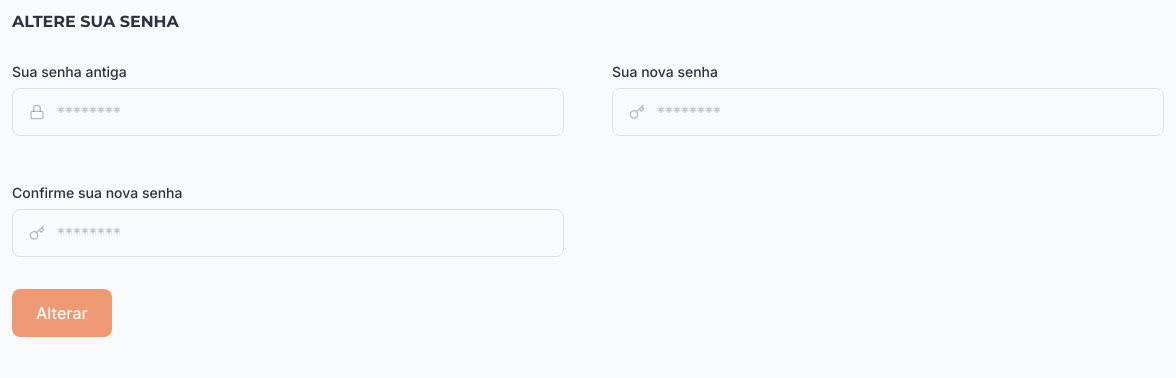
Test: shows validation error when submit is clicked and password confirmation is not provided
Type "old-password" into the password field labelled "Sua senha antiga" at coordinates (310, 112), box [57,89,563,135]
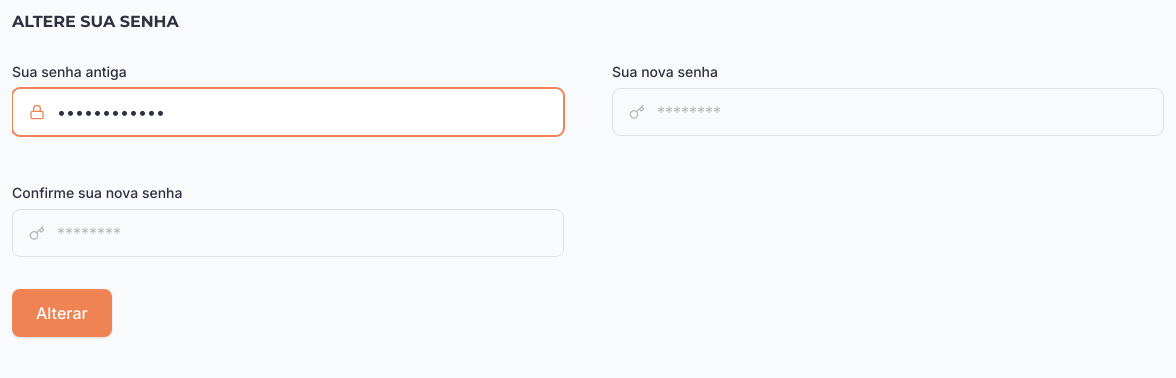
Type "new-password" into the password field labelled "Sua nova senha" at coordinates (910, 112), box [657,89,1163,135]
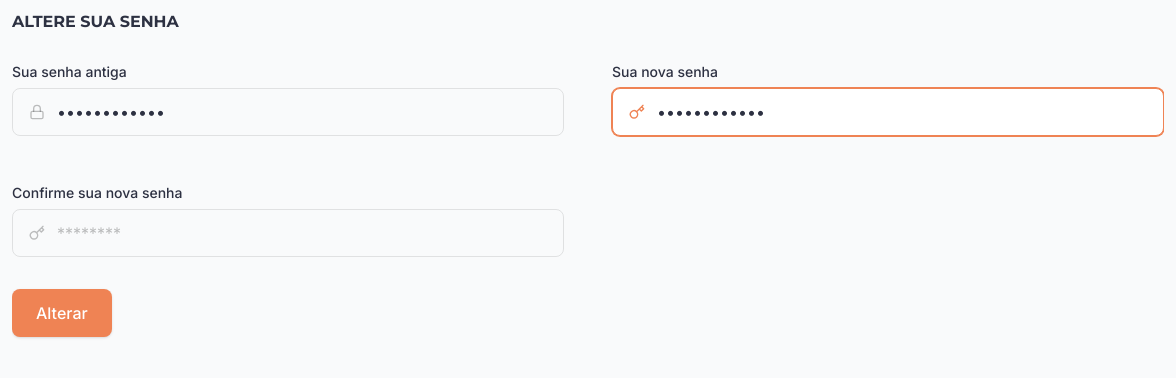
Click the button "Alterar" at coordinates (62, 313), box [12,289,112,337]
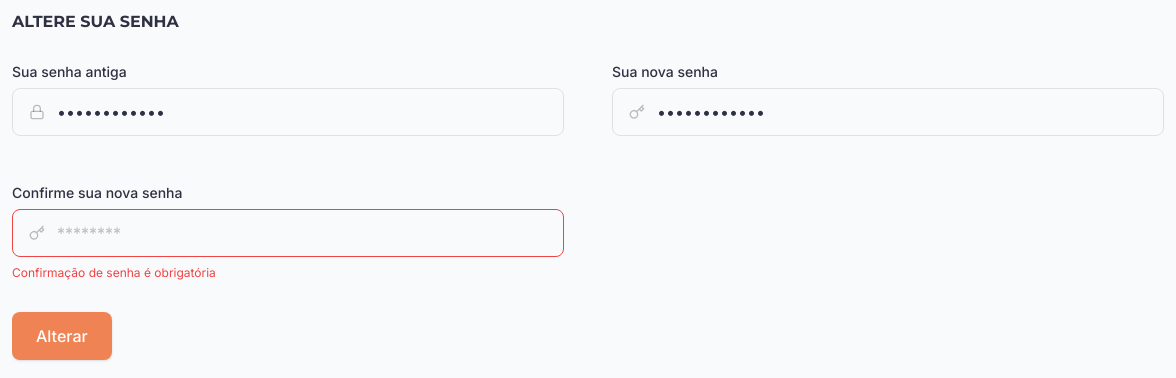
Now the text "Confirmação de senha é obrigatória" is shown, box [12,265,216,280]
